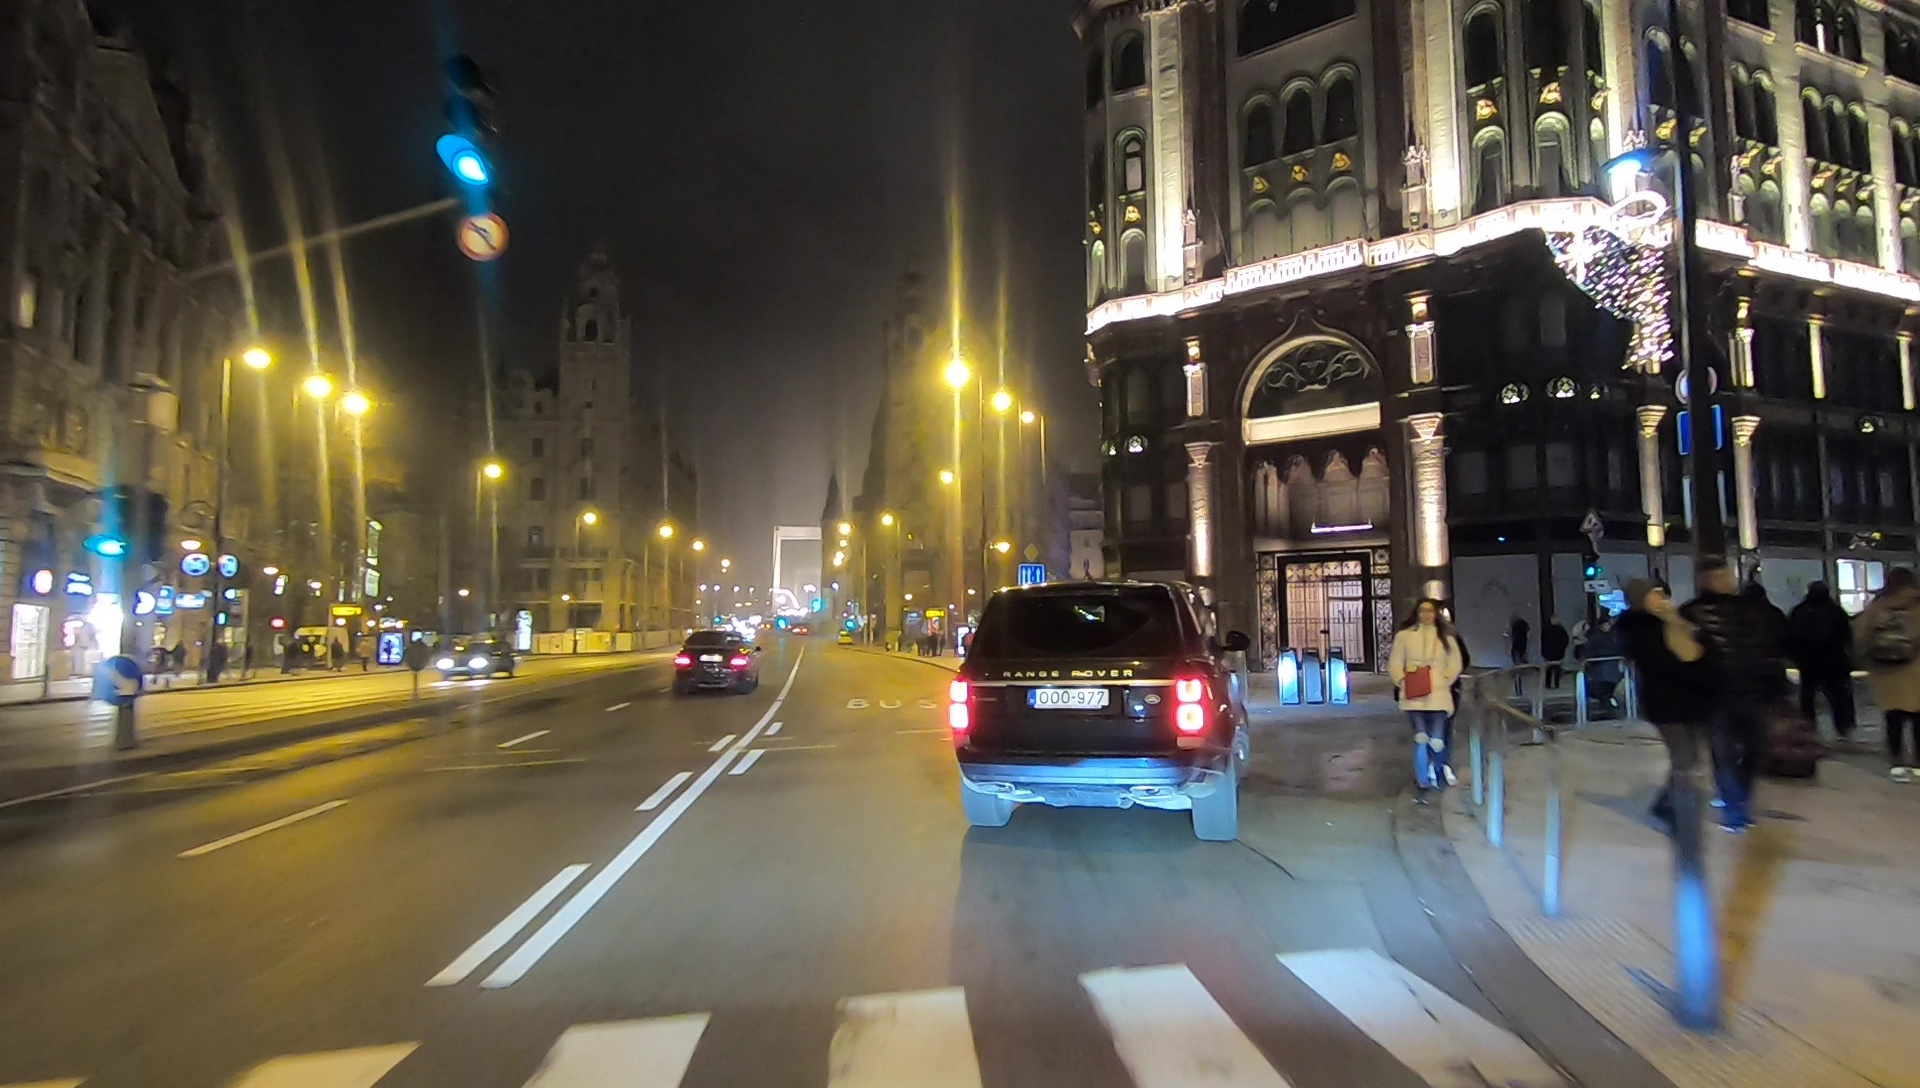person: (1617, 576, 1704, 829), (1694, 555, 1761, 832), (1860, 560, 1920, 788), (1783, 571, 1856, 736), (1393, 598, 1455, 790), (1539, 613, 1566, 693), (1506, 613, 1529, 694)
